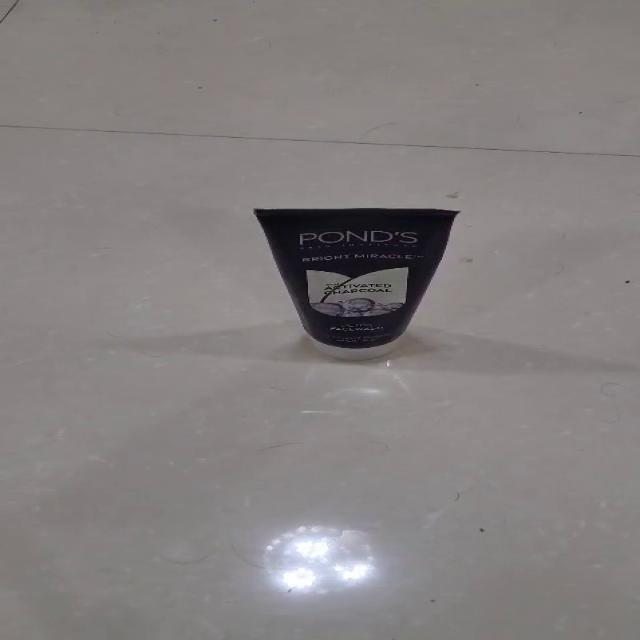plastic: (250, 206, 460, 360)
